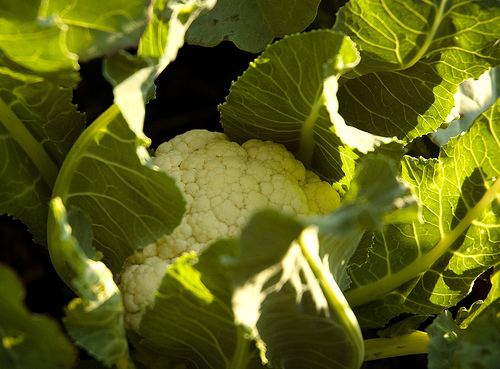cauliflower: (124, 128, 344, 336)
